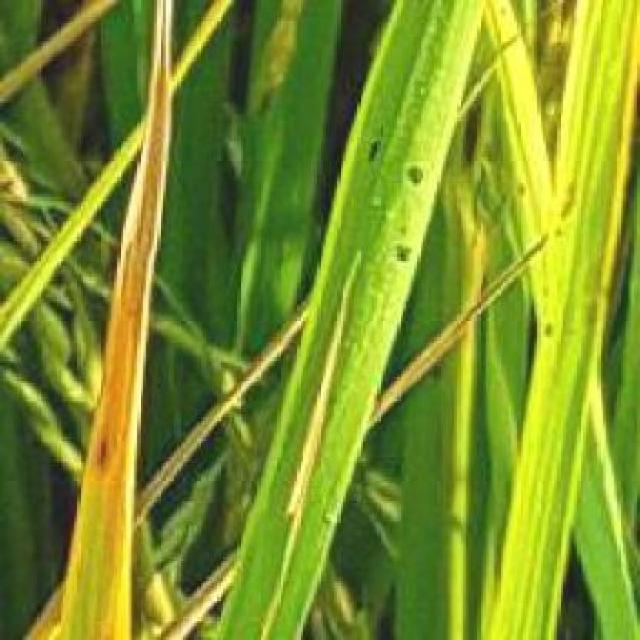Brown_Spot: (83, 8, 183, 503)
